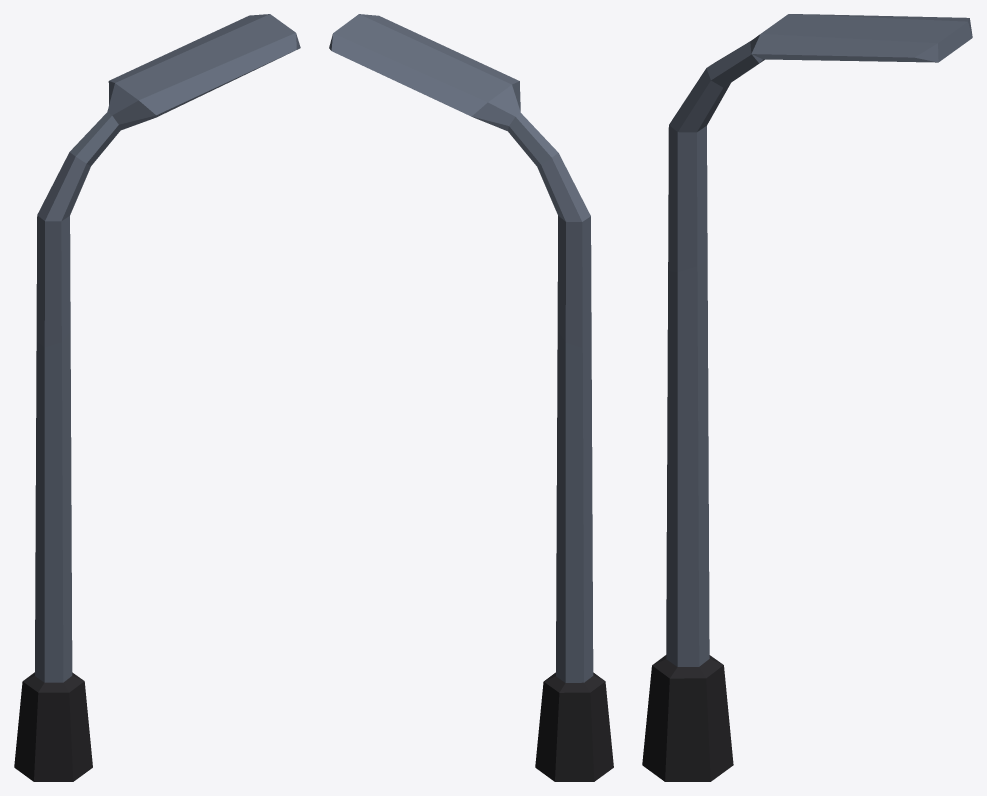
The model's file is Lantern 1 Fractured.fbx.
3 renders of one model, left to right at view 1: azimuth 30°, elevation 25°; view 2: azimuth 150°, elevation 25°; view 3: azimuth 330°, elevation 25°, orthographic. The views are drawn at different scales.
Parts seen in each view (by area): view 1: Lantern_01_Breaking, Lantern_01_Breaking.001; view 2: Lantern_01_Breaking, Lantern_01_Breaking.001; view 3: Lantern_01_Breaking, Lantern_01_Breaking.001.
Boxes of the visible parts, left/top/right/bottom form: Lantern_01_Breaking: left=14, top=331, right=92, bottom=781; Lantern_01_Breaking.001: left=36, top=14, right=300, bottom=347; Lantern_01_Breaking: left=535, top=331, right=613, bottom=781; Lantern_01_Breaking.001: left=329, top=14, right=591, bottom=347; Lantern_01_Breaking: left=642, top=259, right=733, bottom=781; Lantern_01_Breaking.001: left=668, top=14, right=972, bottom=272.
Bounding box in the file's own units: 82.27 × 207 × 26.09.
